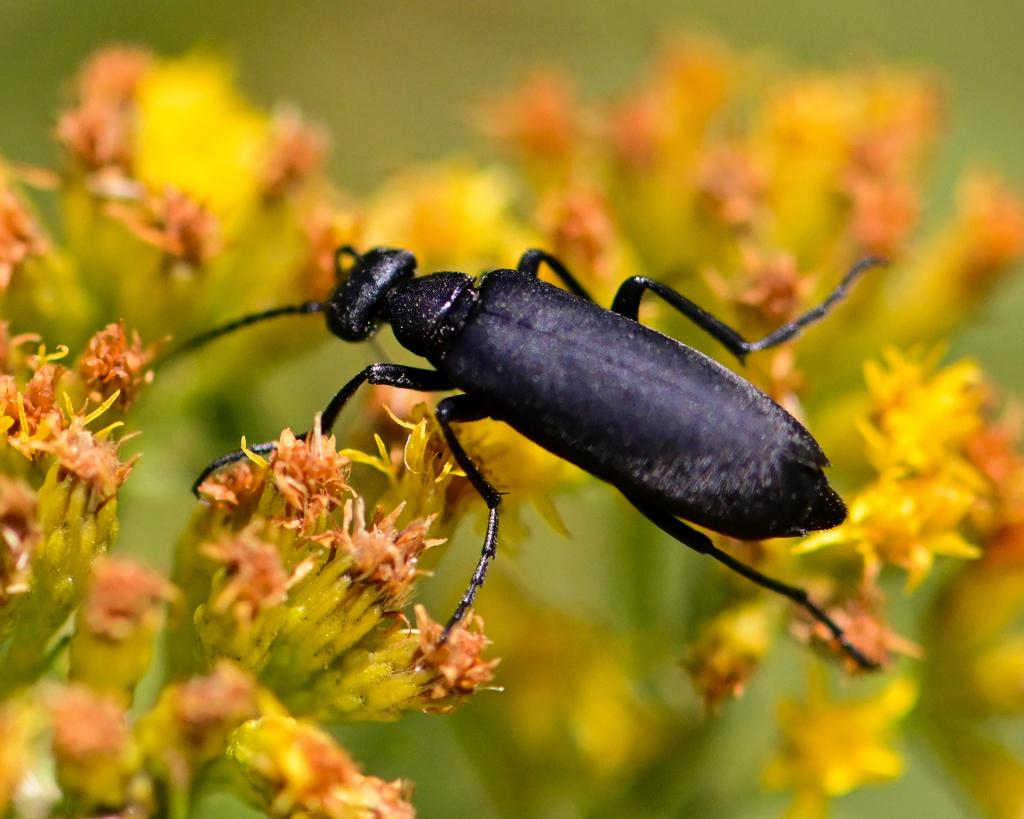blister_beetle: (68, 52, 990, 775)
